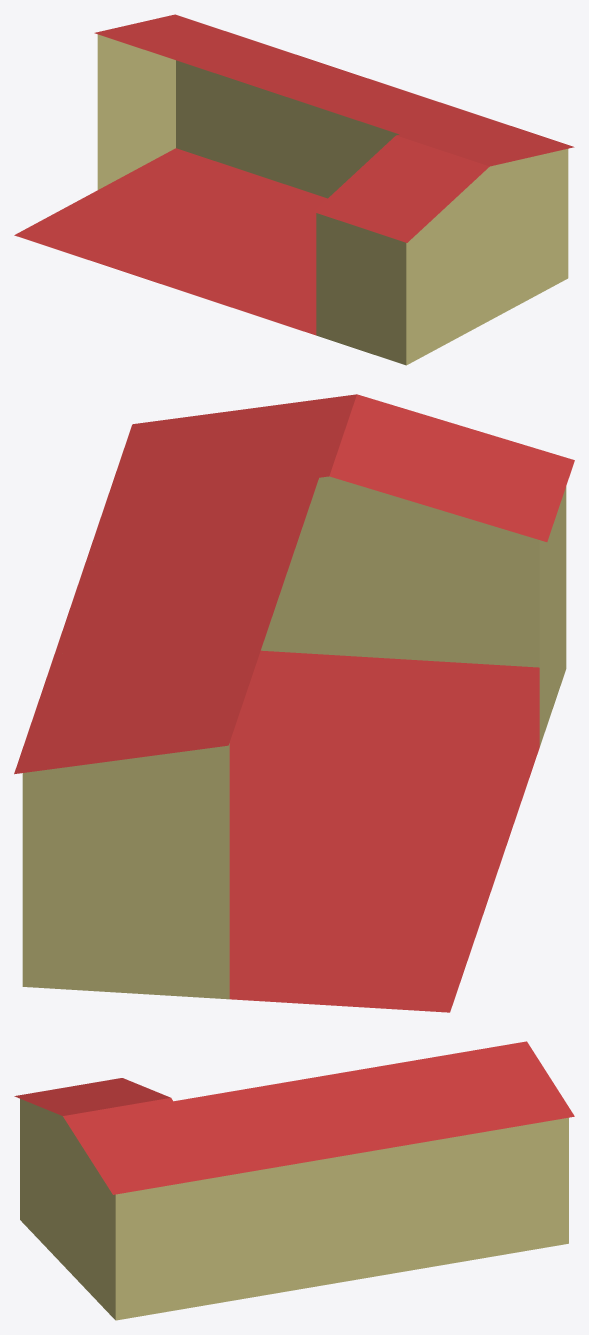
3 renders of one model, top to bottom at view 1: azimuth 30°, elevation 25°; view 2: azimuth 150°, elevation 25°; view 3: azimuth 270°, elevation 25°, orthographic. The views are drawn at different scales.
Bounding box in the file's own units: 23.13 × 30.44 × 9.22.
